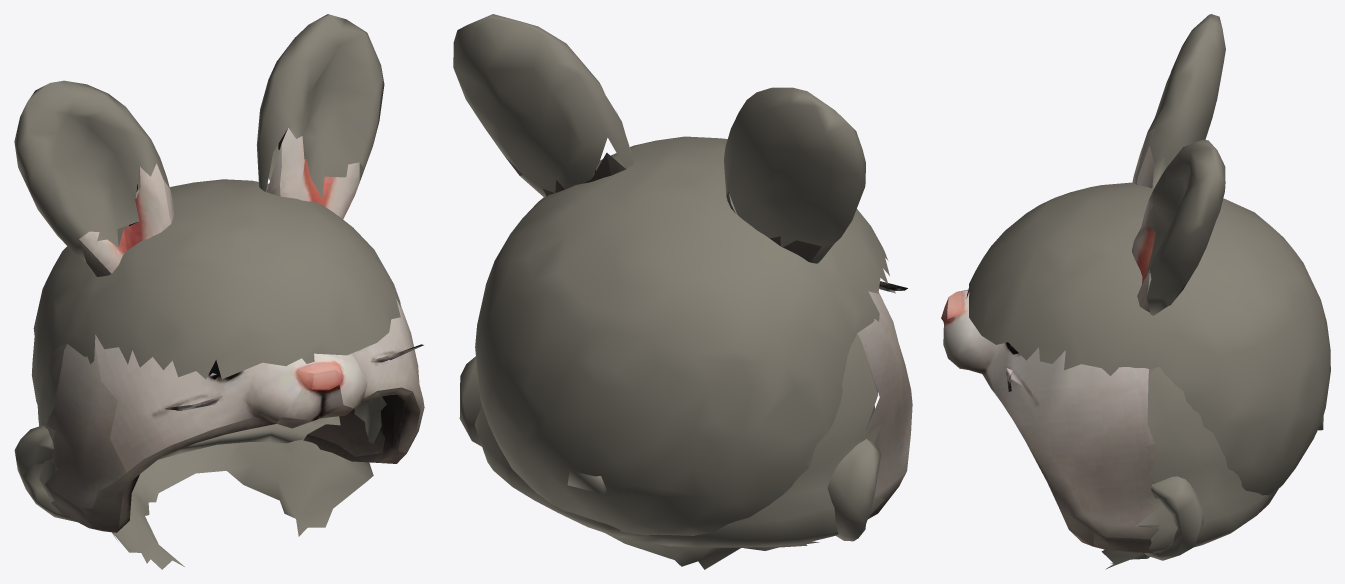
Rendered from rabbit.glb.
3 views of the same model, side by side, from view 1: azimuth 30°, elevation 25°; view 2: azimuth 150°, elevation 25°; view 3: azimuth 270°, elevation 25° (orthographic). The views are drawn at different scales.
Visible parts, largest first — view 1: geometry_0, HoodAnatomicalLining; view 2: HoodAnatomicalLining, geometry_0; view 3: HoodAnatomicalLining, geometry_0.
Boxes of the visible parts, box(x1,y1,x2,y2) form: geometry_0: box(14, 14, 424, 532); HoodAnatomicalLining: box(14, 179, 400, 569); HoodAnatomicalLining: box(459, 136, 889, 569); geometry_0: box(453, 14, 912, 547); HoodAnatomicalLining: box(966, 182, 1330, 569); geometry_0: box(941, 14, 1323, 552).
Bounding box in the file's own units: 0.4678 × 0.5603 × 0.4332.
2 materials, 1 textured.
